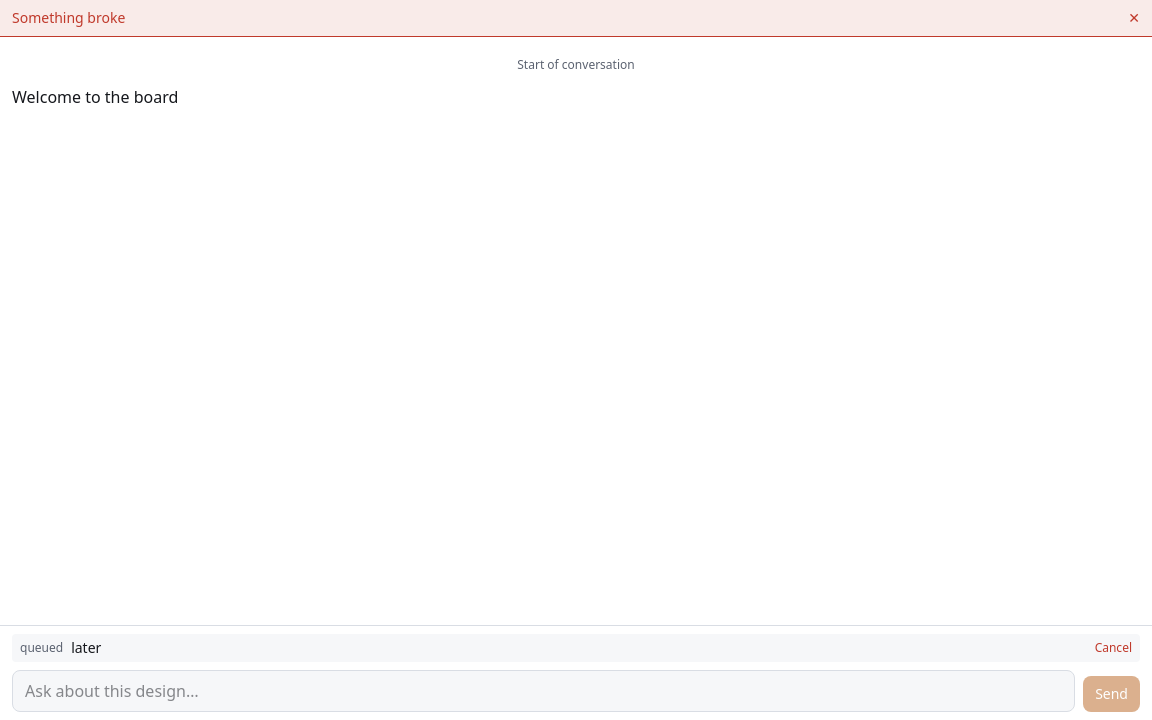
ChatPanel › shows and dismisses errors
Expected: the message shows "Something broke", [12,8,125,27]
Click the button named "Dismiss error" at x=1134, y=18, box [1128,8,1140,28]
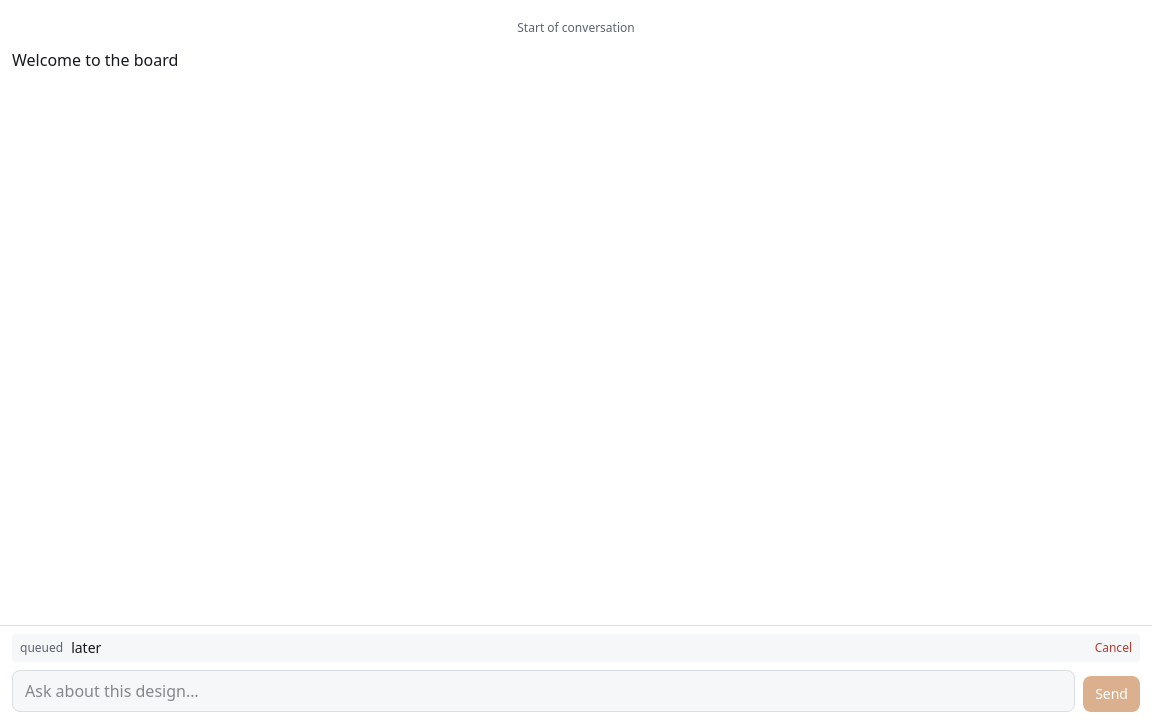
Expected: the message "Something broke ✕" is gone
